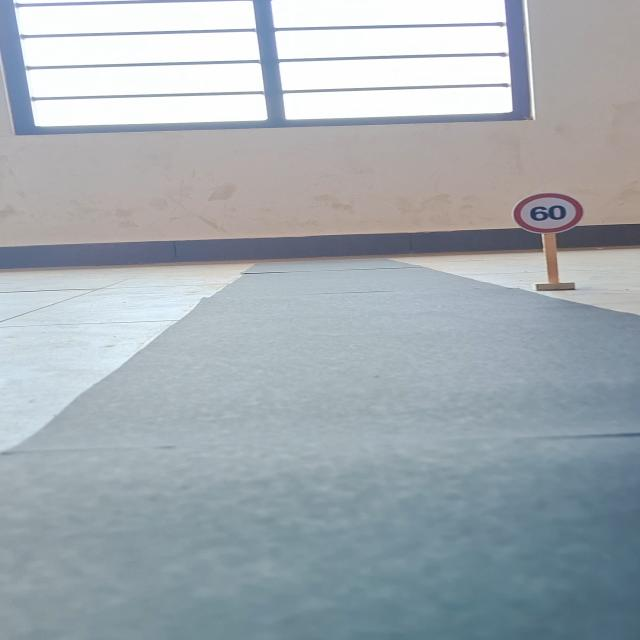Speed60: (508, 192, 582, 234)
